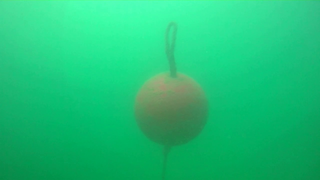buoy: (133, 72, 208, 146)
